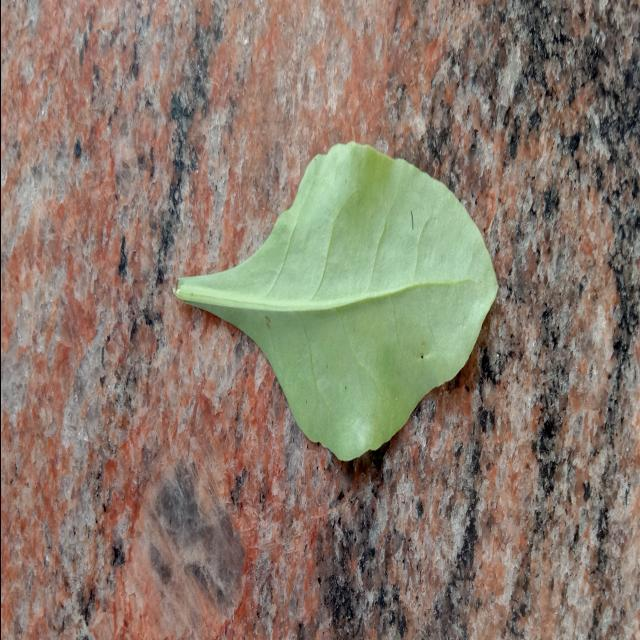leaf: (172, 139, 499, 462)
